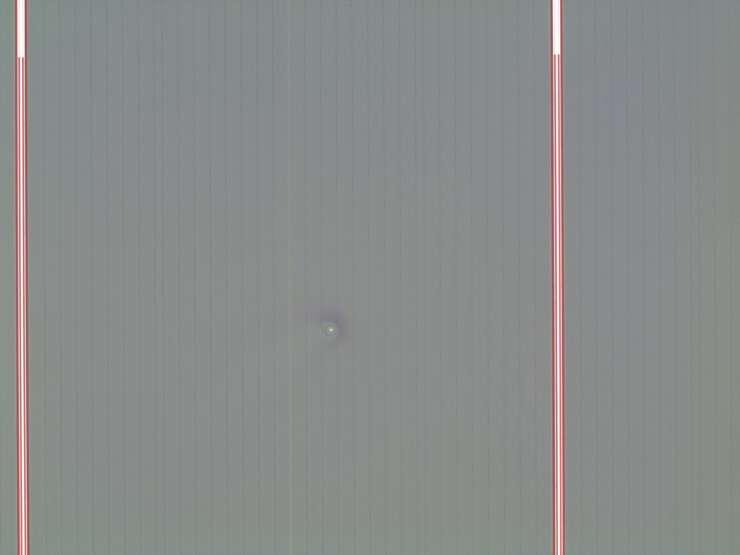PIQ PARTICLE: (316, 316, 348, 348)
